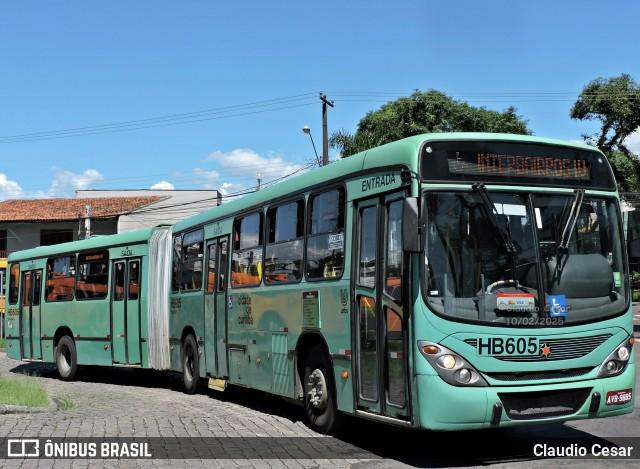INTERBAIRROS IV: (473, 148, 592, 181)
